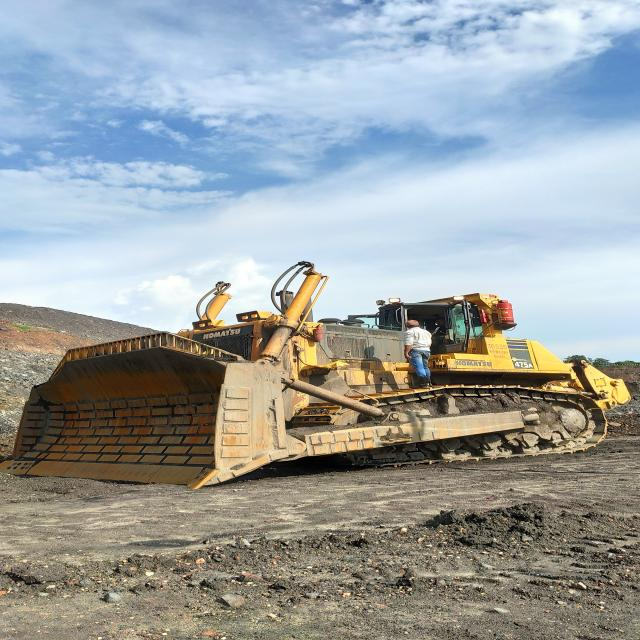bull_dozer/loader/grader: (191, 360, 289, 489)
